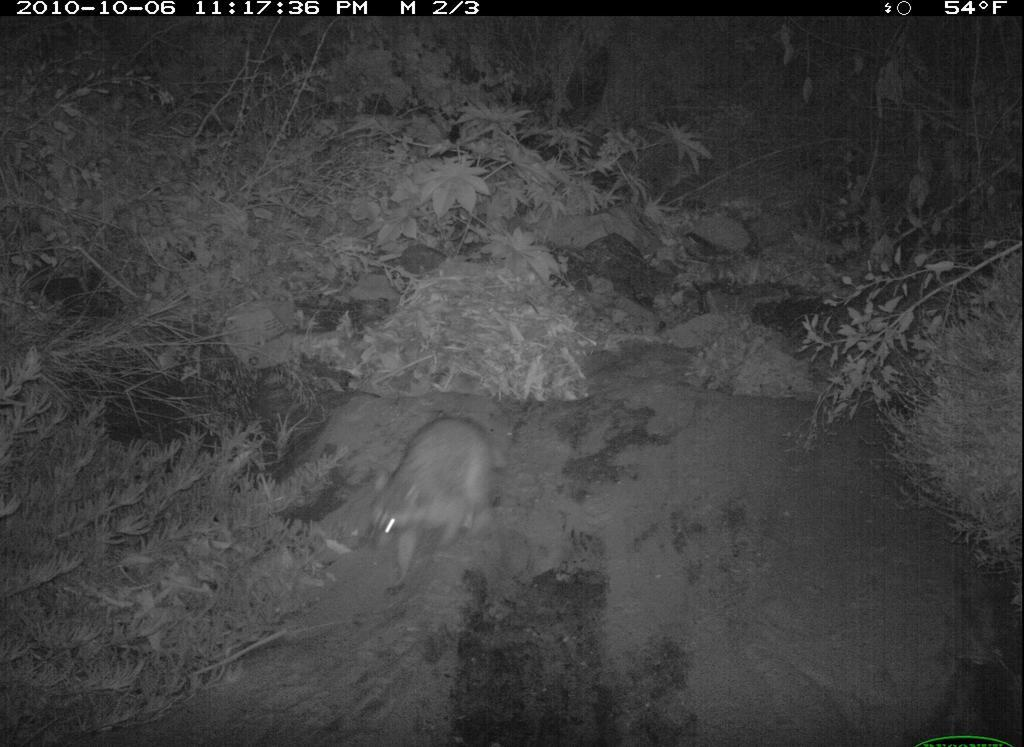raccoon: (361, 410, 513, 589)
